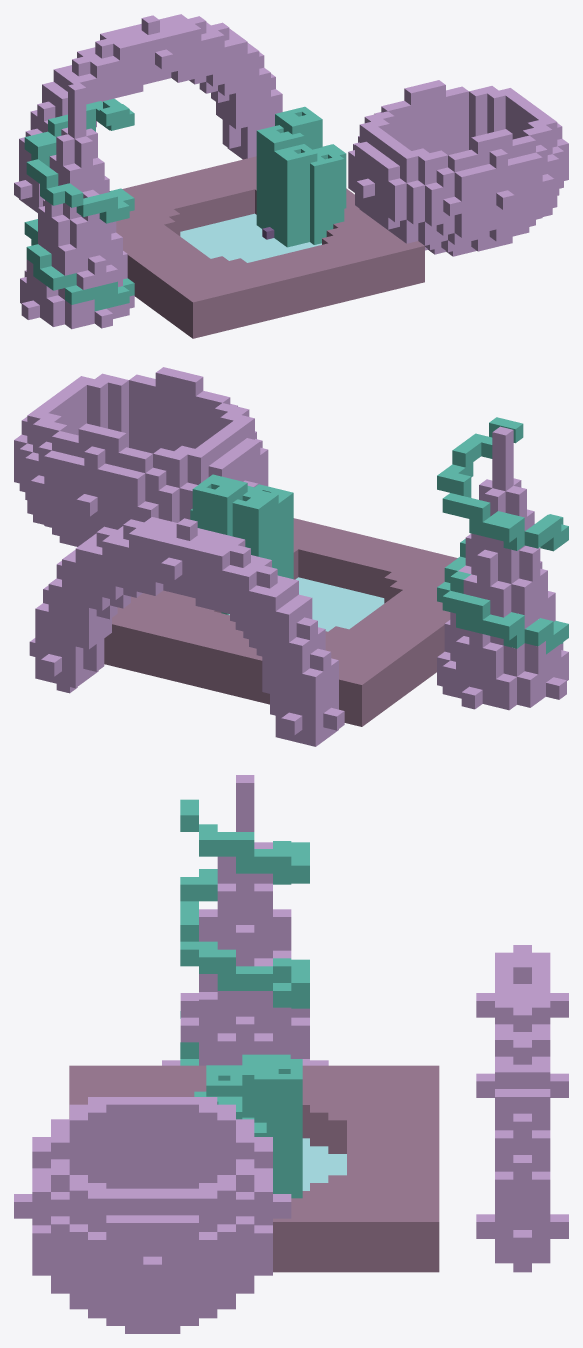
The model's file is alien-biosphere-mineral-basin-4390d5c2__22835.glb.
The picture shows the model from 3 angles, top to bottom: view 1: azimuth 30°, elevation 25°; view 2: azimuth 150°, elevation 25°; view 3: azimuth 270°, elevation 25°; orthographic projection. The views are drawn at different scales.
Visible parts, largest first — view 1: 002-geode-bowl/0, 000-pool-tile/0, 001-mineral-arch/0, 003-mineral-symbiont/0, 004-tube-reeds/1, 003-mineral-symbiont/1, 000-pool-tile/1; view 2: 001-mineral-arch/0, 002-geode-bowl/0, 000-pool-tile/0, 003-mineral-symbiont/0, 003-mineral-symbiont/1, 004-tube-reeds/1, 000-pool-tile/1; view 3: 002-geode-bowl/0, 000-pool-tile/0, 001-mineral-arch/0, 003-mineral-symbiont/0, 003-mineral-symbiont/1, 004-tube-reeds/1, 000-pool-tile/1.
Part boxes in pixels (x1,y1,x2,y2): 002-geode-bowl/0: (348, 80, 568, 256); 000-pool-tile/0: (116, 156, 424, 338); 001-mineral-arch/0: (14, 14, 282, 212); 003-mineral-symbiont/0: (20, 83, 134, 329); 004-tube-reeds/1: (256, 106, 346, 247); 003-mineral-symbiont/1: (24, 98, 134, 311); 000-pool-tile/1: (180, 213, 321, 262); 001-mineral-arch/0: (29, 517, 344, 746); 002-geode-bowl/0: (14, 367, 268, 546); 000-pool-tile/0: (104, 518, 457, 726); 003-mineral-symbiont/0: (437, 426, 568, 710); 003-mineral-symbiont/1: (437, 417, 568, 654); 004-tube-reeds/1: (190, 474, 293, 614); 000-pool-tile/1: (229, 577, 384, 631); 002-geode-bowl/0: (14, 1097, 291, 1333); 000-pool-tile/0: (69, 1065, 439, 1272); 001-mineral-arch/0: (476, 945, 568, 1272); 003-mineral-symbiont/0: (162, 775, 328, 1065); 003-mineral-symbiont/1: (180, 799, 309, 1065); 004-tube-reeds/1: (194, 1054, 302, 1198); 000-pool-tile/1: (302, 1138, 346, 1190).
Size of the model in its own units: 8.6 by 3.6 by 6.
